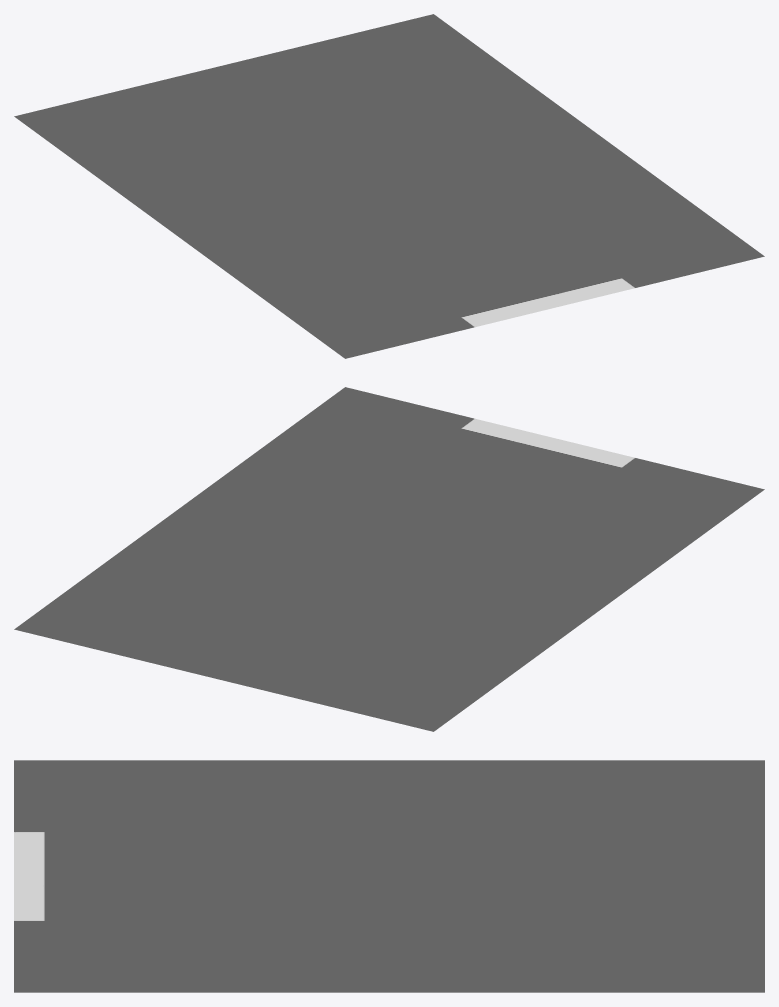
File: road_straight_Middle.fbx
The picture shows the model from 3 angles, top to bottom: view 1: azimuth 30°, elevation 25°; view 2: azimuth 150°, elevation 25°; view 3: azimuth 270°, elevation 25°; orthographic projection. The views are drawn at different scales.
Visible parts, largest first — view 1: road_straight_Middle; view 2: road_straight_Middle; view 3: road_straight_Middle.
Boxes of the visible parts, <box> form: road_straight_Middle: <box>14,14,764,358</box>; road_straight_Middle: <box>14,387,764,731</box>; road_straight_Middle: <box>14,760,764,992</box>.
Size of the model in its own units: 0.05 by 0 by 0.0683.
Materials: 1 (1 with a texture image).
